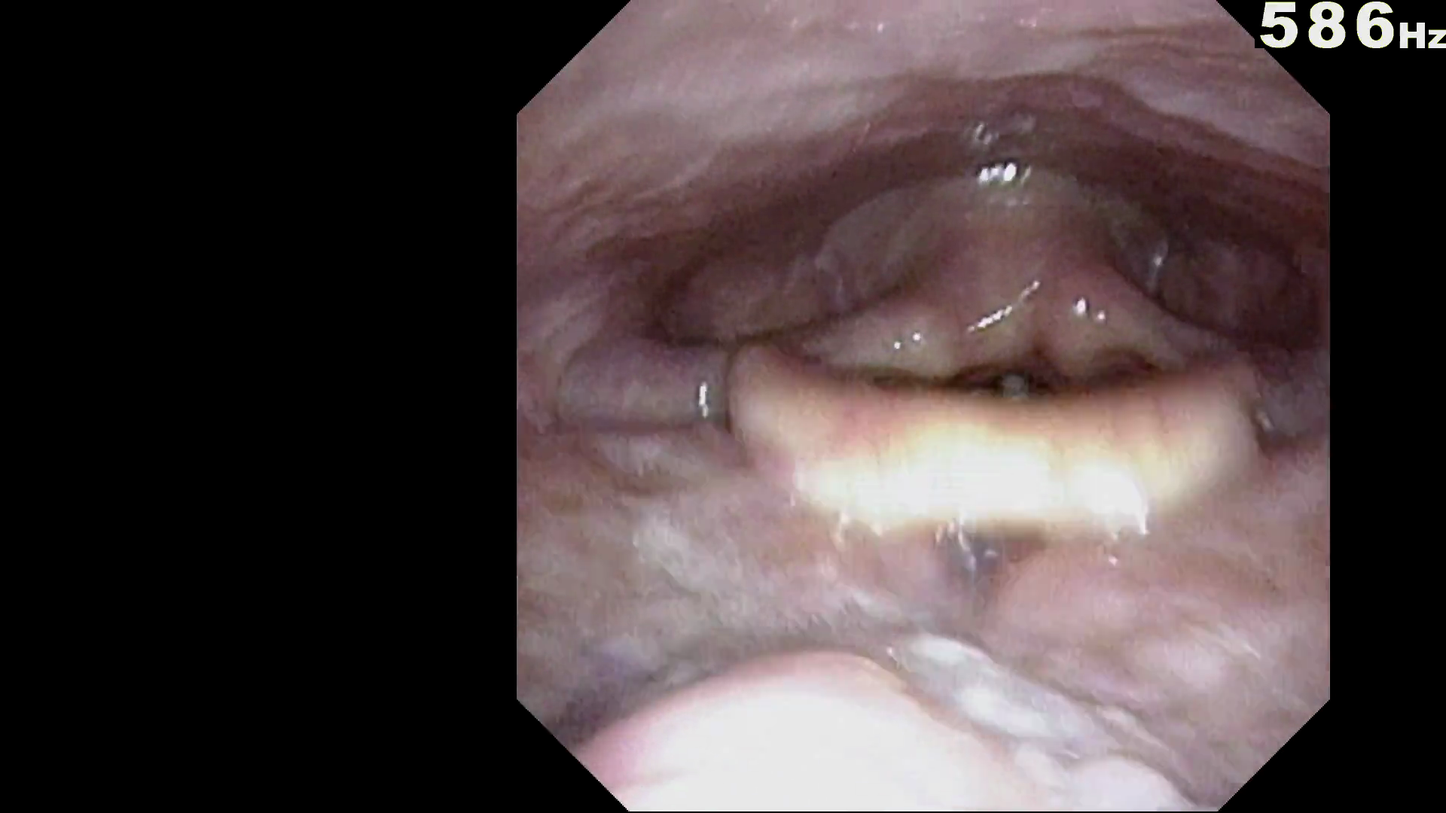epiglottis: (750, 322, 1208, 473)
